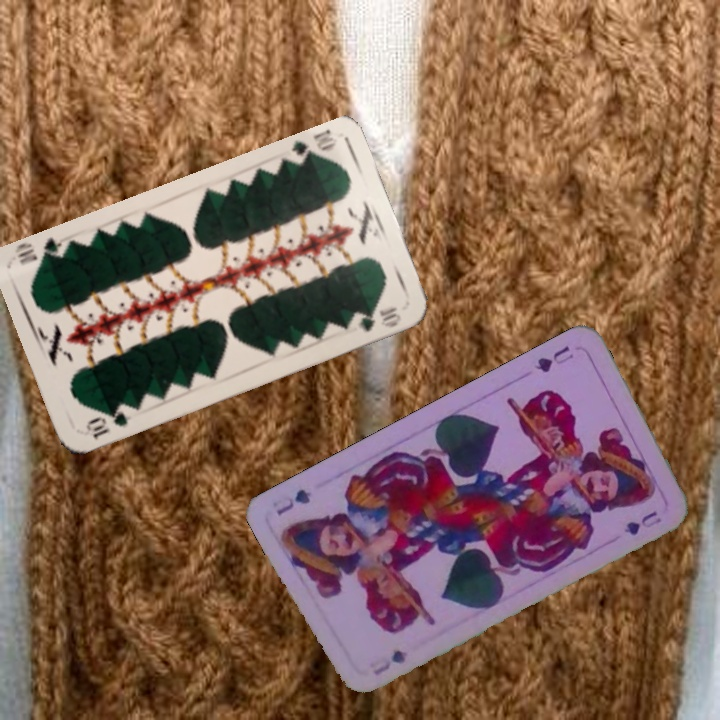G10: (286, 125, 340, 167), (81, 405, 131, 443)
GU: (530, 341, 576, 375), (369, 646, 411, 679)
